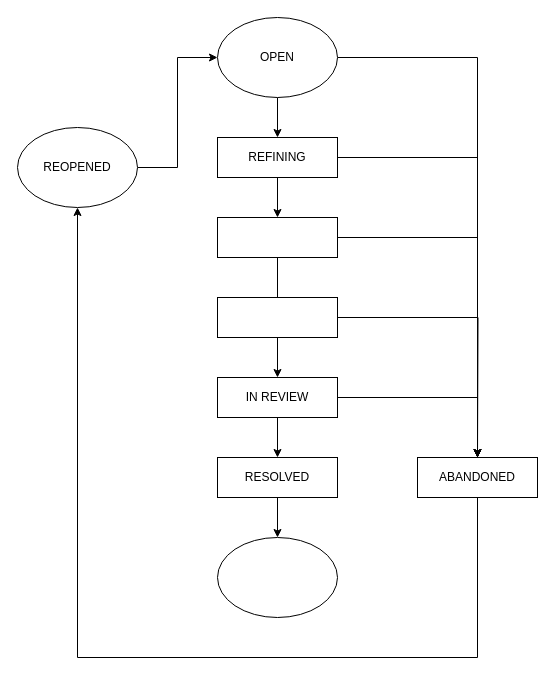
The diagram is 555 pixels wide and 683 high, and some of its shapes have lost their labels. The shapes that lost their labels are listed below. From the top down, each one's box as (x1, y1, x2, y2) in pixels, then its label:
(216, 216, 338, 258): ON HOLD
(216, 296, 338, 338): IN PROGRESS
(216, 536, 338, 618): CLOSED
